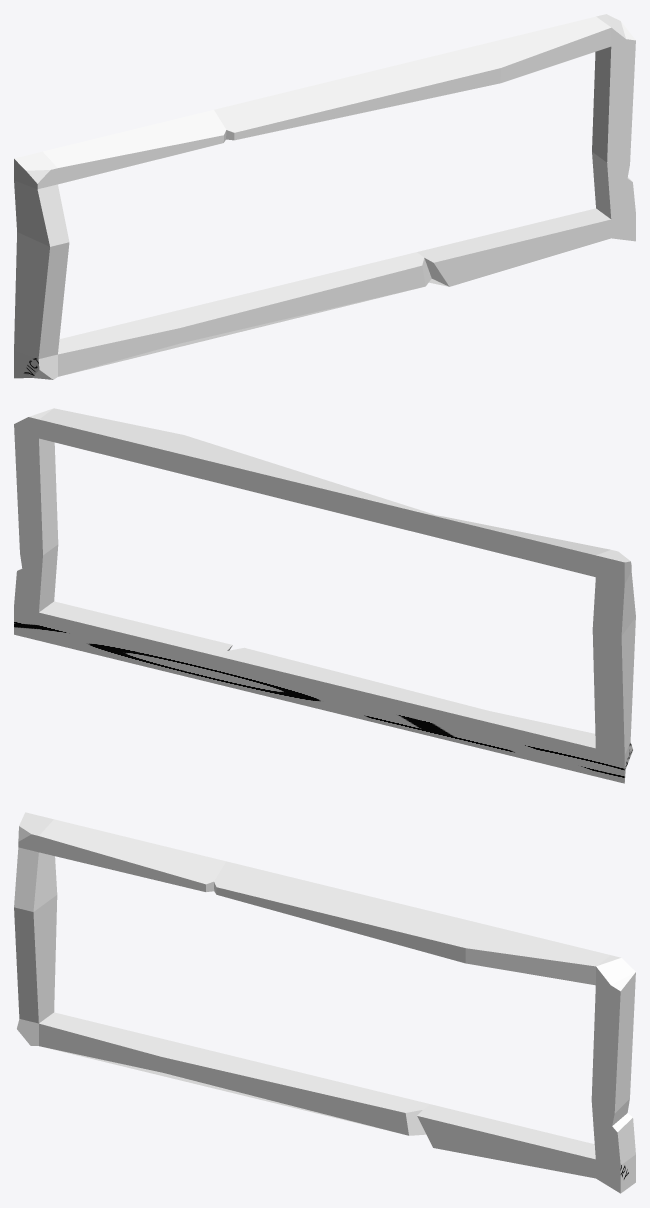
Rendered from UI_timer 2.fbx.
3 renders of one model, top to bottom at view 1: azimuth 30°, elevation 25°; view 2: azimuth 150°, elevation 25°; view 3: azimuth 330°, elevation 25°, orthographic.
Parts seen in each view (by area): view 1: pCube10; view 2: pCube10; view 3: pCube10.
Boxes of the visible parts, left/top/right/bottom form: pCube10: left=14, top=14, right=635, bottom=379; pCube10: left=14, top=408, right=635, bottom=783; pCube10: left=14, top=812, right=635, bottom=1193.
Bounding box in the file's own units: 11.24 × 3.89 × 0.791.
